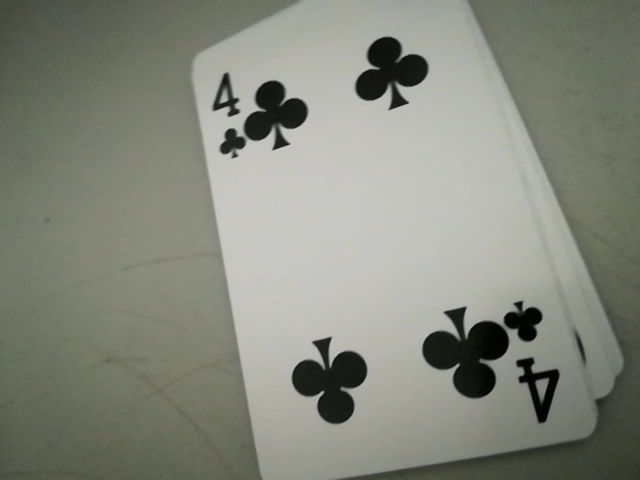mh 4: (503, 292, 567, 428), (200, 61, 248, 166)
